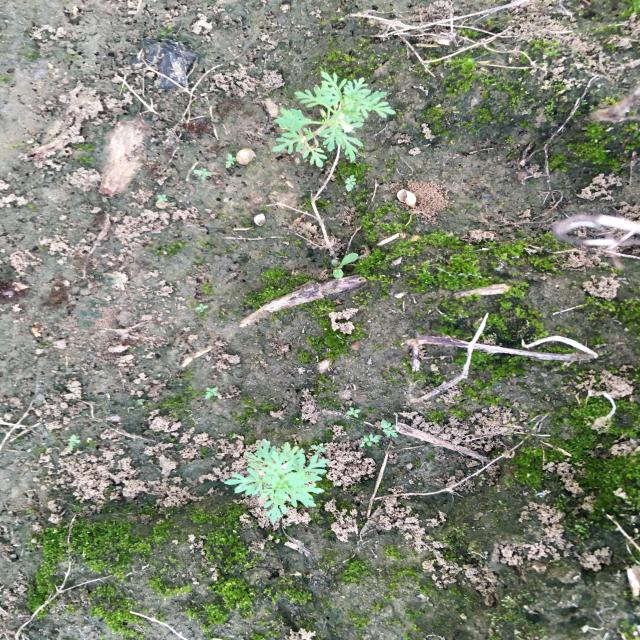Ragweed: (270, 69, 398, 168), (220, 437, 332, 526)
